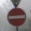No entry: (5, 5, 25, 25)
